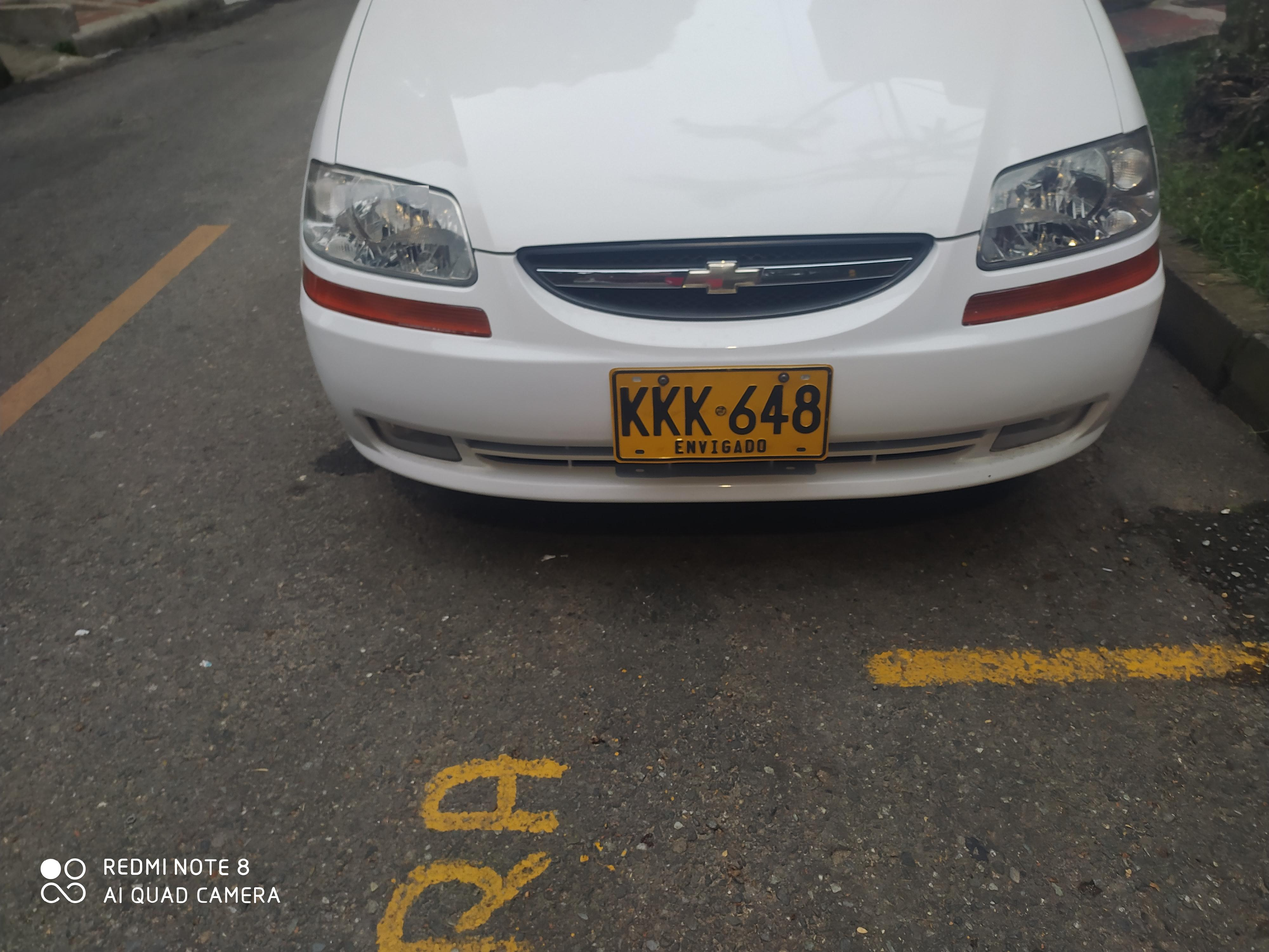placa: (602, 362, 838, 472)
